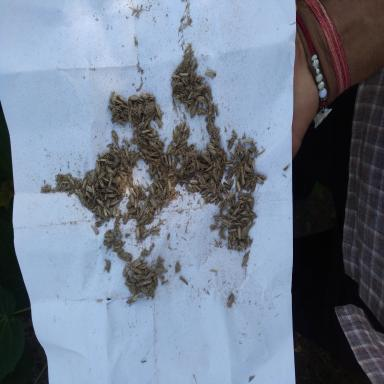pbw: (201, 152, 212, 164), (179, 128, 188, 142), (186, 99, 195, 113), (132, 256, 142, 268), (140, 247, 152, 257), (130, 152, 140, 164), (116, 94, 128, 104), (227, 136, 235, 151), (167, 74, 181, 82), (250, 172, 258, 186), (150, 227, 161, 237), (155, 266, 165, 277), (144, 270, 155, 280), (112, 214, 121, 226), (172, 126, 178, 144), (106, 165, 115, 177), (222, 185, 230, 198), (166, 143, 174, 156), (114, 225, 122, 238), (138, 260, 148, 270), (234, 146, 244, 156), (225, 192, 236, 201), (227, 294, 234, 308), (110, 239, 124, 246), (111, 130, 118, 144), (126, 280, 133, 294), (120, 154, 127, 168), (213, 127, 221, 139), (120, 250, 132, 258), (98, 178, 106, 190), (110, 186, 122, 194), (212, 171, 219, 184), (155, 116, 162, 129), (117, 255, 132, 261), (183, 43, 192, 53), (238, 240, 247, 250), (210, 194, 219, 204), (134, 226, 140, 241), (171, 166, 180, 176), (138, 136, 148, 145), (179, 275, 188, 285), (82, 200, 91, 210), (143, 197, 149, 212), (152, 272, 158, 287), (100, 213, 110, 222), (140, 286, 149, 296), (140, 225, 145, 243), (90, 224, 99, 234), (112, 113, 120, 124), (149, 197, 157, 208), (111, 104, 118, 116), (131, 282, 137, 296), (148, 286, 154, 300), (250, 182, 257, 194), (245, 178, 252, 190), (124, 148, 130, 162), (212, 162, 219, 174), (166, 186, 172, 200), (132, 274, 146, 280), (256, 173, 268, 180), (104, 206, 111, 218), (90, 169, 96, 183), (128, 150, 135, 162), (104, 261, 111, 273), (190, 159, 196, 173), (150, 146, 162, 153), (96, 206, 102, 220), (206, 125, 213, 137), (122, 262, 128, 276), (186, 144, 195, 153), (218, 232, 227, 241), (222, 219, 232, 227), (221, 152, 226, 168), (209, 137, 219, 145), (144, 217, 154, 225), (185, 184, 195, 192), (171, 190, 179, 200), (173, 94, 181, 104), (138, 124, 146, 134), (144, 111, 154, 119), (120, 104, 130, 112), (172, 78, 180, 88), (236, 165, 241, 181), (178, 140, 188, 148), (95, 162, 101, 175), (190, 58, 196, 71), (246, 235, 252, 248), (185, 152, 198, 158), (123, 212, 129, 225), (132, 100, 138, 113), (111, 91, 117, 104), (236, 141, 242, 154), (134, 183, 140, 196), (132, 267, 143, 274), (130, 187, 137, 198), (196, 108, 207, 115), (144, 154, 155, 161), (190, 71, 195, 86), (210, 110, 216, 122), (226, 237, 232, 249), (199, 183, 211, 189), (235, 151, 241, 163), (141, 128, 153, 134), (182, 77, 190, 86), (246, 220, 254, 229), (222, 198, 228, 210), (104, 231, 113, 239), (139, 215, 147, 224), (148, 151, 160, 157), (238, 194, 250, 200), (223, 182, 232, 190), (158, 188, 164, 200), (157, 140, 165, 149), (128, 206, 137, 214), (166, 169, 174, 178), (99, 151, 108, 159), (235, 180, 241, 192), (127, 162, 133, 174), (194, 183, 202, 192), (129, 194, 135, 206), (203, 94, 208, 108), (217, 190, 224, 200), (109, 199, 119, 206), (167, 178, 172, 192), (129, 94, 139, 101), (207, 152, 212, 166), (242, 256, 249, 266), (211, 102, 218, 112), (218, 223, 225, 233), (168, 153, 173, 167), (138, 104, 143, 118), (175, 261, 180, 275), (94, 219, 104, 226), (149, 194, 160, 200), (104, 237, 115, 243), (124, 136, 130, 147), (68, 175, 74, 186), (198, 162, 209, 168), (180, 122, 186, 133), (82, 178, 88, 189), (148, 203, 154, 214), (180, 165, 186, 176), (204, 91, 210, 102), (193, 72, 198, 85), (164, 153, 169, 166), (217, 155, 222, 168), (156, 104, 161, 117), (132, 294, 140, 302), (208, 147, 216, 155), (108, 150, 116, 158), (120, 113, 128, 121), (96, 199, 104, 207), (228, 168, 236, 176), (201, 190, 209, 198), (232, 207, 240, 215), (256, 176, 264, 184), (240, 163, 244, 179), (228, 226, 232, 242), (231, 162, 239, 170), (98, 171, 106, 179), (145, 114, 153, 122), (206, 142, 215, 149), (182, 50, 191, 57), (103, 240, 112, 247), (77, 188, 84, 197), (146, 93, 155, 100), (204, 165, 213, 172), (248, 146, 257, 153), (136, 208, 140, 223), (143, 279, 153, 285), (227, 176, 233, 186), (92, 203, 98, 213), (241, 171, 245, 186), (126, 298, 136, 304), (226, 214, 236, 220), (234, 200, 239, 212), (149, 161, 153, 176), (136, 144, 146, 150), (186, 91, 192, 101), (170, 188, 176, 198), (151, 110, 157, 120), (128, 98, 133, 110), (157, 256, 163, 266), (238, 210, 248, 216), (244, 166, 254, 172), (195, 158, 200, 170), (148, 184, 154, 194), (176, 92, 184, 99), (208, 103, 212, 117), (171, 68, 185, 72), (238, 226, 242, 240), (156, 219, 164, 226), (140, 92, 148, 99), (203, 86, 211, 93), (191, 184, 198, 192), (92, 182, 96, 196), (163, 197, 170, 205), (99, 188, 103, 202), (125, 272, 129, 286), (86, 184, 93, 192), (245, 201, 250, 212), (162, 186, 167, 197), (178, 72, 189, 77), (170, 146, 176, 155), (152, 166, 158, 175), (136, 280, 145, 286), (158, 182, 164, 191), (196, 96, 205, 102), (225, 208, 234, 214), (229, 151, 235, 160), (111, 248, 124, 252), (244, 162, 248, 175), (131, 121, 135, 134), (139, 207, 143, 220), (160, 152, 164, 165), (219, 204, 223, 217), (244, 149, 248, 162), (139, 186, 143, 199), (154, 172, 159, 182), (91, 200, 96, 210), (130, 277, 140, 282), (104, 160, 114, 165), (116, 120, 126, 125), (193, 85, 203, 90), (249, 211, 256, 218), (193, 92, 201, 98), (177, 81, 185, 87), (246, 184, 252, 192), (234, 164, 238, 176), (113, 145, 119, 153), (148, 140, 156, 146), (213, 215, 221, 221), (205, 195, 211, 203), (250, 198, 254, 210), (160, 172, 166, 180), (106, 142, 114, 148), (143, 134, 151, 140), (232, 231, 236, 243), (210, 119, 214, 131), (134, 197, 138, 209), (153, 180, 159, 188), (112, 205, 116, 217), (190, 180, 199, 185), (119, 170, 124, 179), (224, 162, 233, 167), (113, 244, 122, 249), (215, 197, 220, 206), (184, 85, 193, 90), (157, 203, 161, 214), (231, 197, 235, 208), (132, 113, 135, 127), (86, 191, 92, 198), (86, 174, 92, 181), (129, 110, 132, 124), (240, 217, 250, 221), (233, 223, 243, 227), (243, 140, 253, 144), (127, 178, 132, 186), (217, 184, 221, 194), (136, 136, 140, 146), (94, 180, 98, 190), (180, 179, 189, 183), (106, 199, 110, 208), (224, 160, 233, 164), (228, 228, 237, 232), (244, 174, 253, 178), (109, 177, 112, 189), (95, 159, 107, 162), (92, 196, 96, 205), (210, 225, 217, 230), (217, 146, 224, 151), (116, 100, 123, 105), (102, 178, 109, 183), (138, 122, 145, 127), (252, 159, 255, 170), (116, 203, 119, 214), (106, 188, 114, 192), (118, 170, 126, 174), (249, 152, 251, 167), (107, 194, 117, 197), (146, 133, 152, 138), (121, 145, 124, 154)
